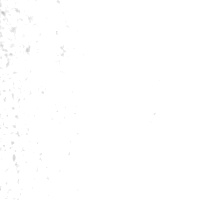pitted_surface: (1, 1, 97, 194), (99, 1, 173, 115)
